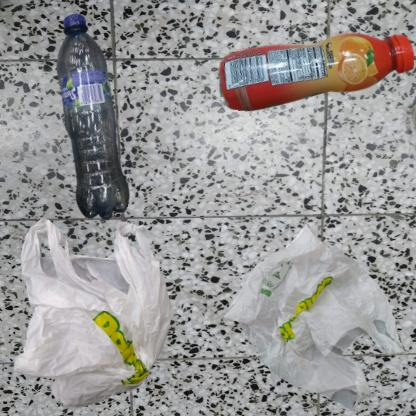bolsa: (213, 213, 416, 416), (10, 213, 180, 416)
botella: (10, 10, 199, 259), (213, 10, 416, 142)
